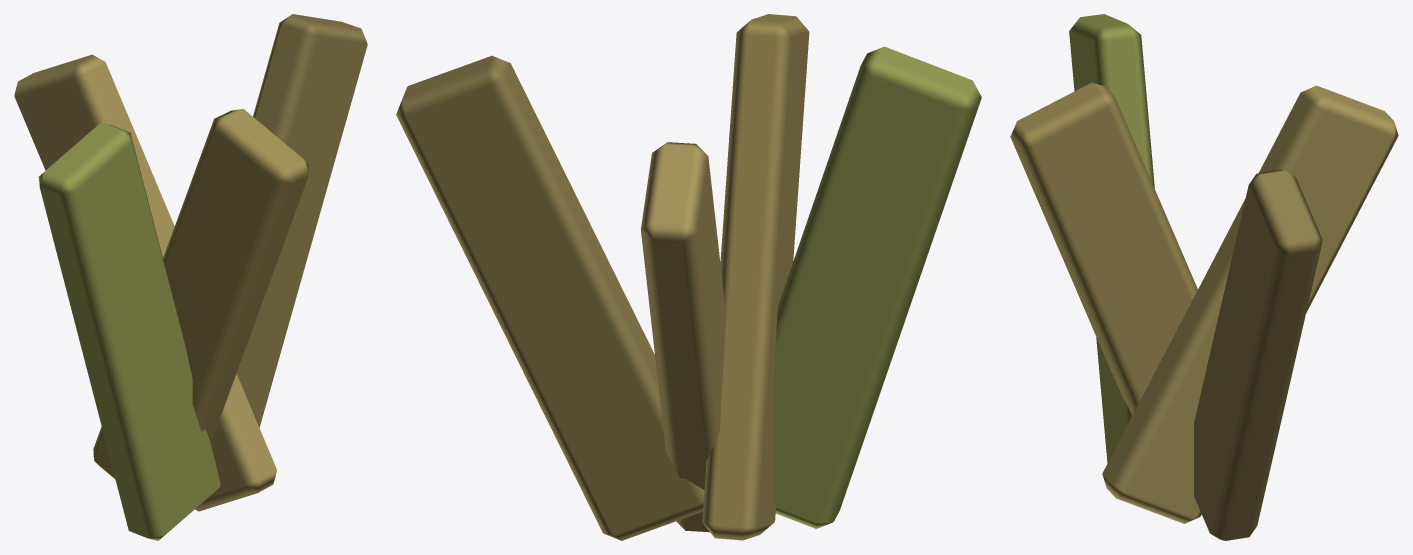
Rendered from dry-tuft.2eff3dc4.glb.
3 renders of one model, left to right at view 1: azimuth 30°, elevation 25°; view 2: azimuth 150°, elevation 25°; view 3: azimuth 270°, elevation 25°, orthographic. The views are drawn at different scales.
Visible parts, largest first — view 1: body; view 2: body; view 3: body.
Boxes of the visible parts, bbox=[...] form: body: bbox=[14, 14, 367, 540]; body: bbox=[396, 14, 981, 540]; body: bbox=[1010, 14, 1398, 540].
Size of the model in its own units: 0.1141 by 0.1129 by 0.0921.
